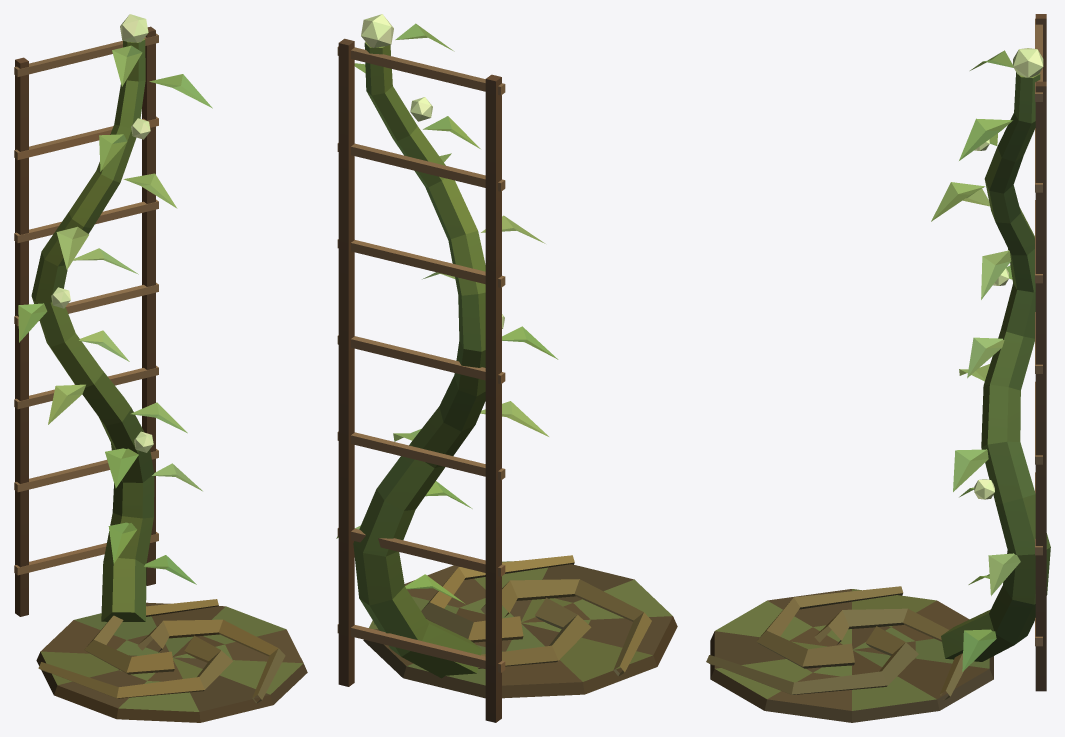
The model's file is shortcut_vine_up.glb.
The picture shows the model from 3 angles, left to right: view 1: azimuth 30°, elevation 25°; view 2: azimuth 150°, elevation 25°; view 3: azimuth 270°, elevation 25°; orthographic projection. The views are drawn at different scales.
Parts seen in each view (by area): view 1: shortcut_vine_up; view 2: shortcut_vine_up; view 3: shortcut_vine_up.
Part boxes in pixels (x1,y1,x2,y2): shortcut_vine_up: (14,14,307,722); shortcut_vine_up: (336,14,677,722); shortcut_vine_up: (706,14,1050,722).
Size of the model in its own units: 2.68 by 6.34 by 3.1.
